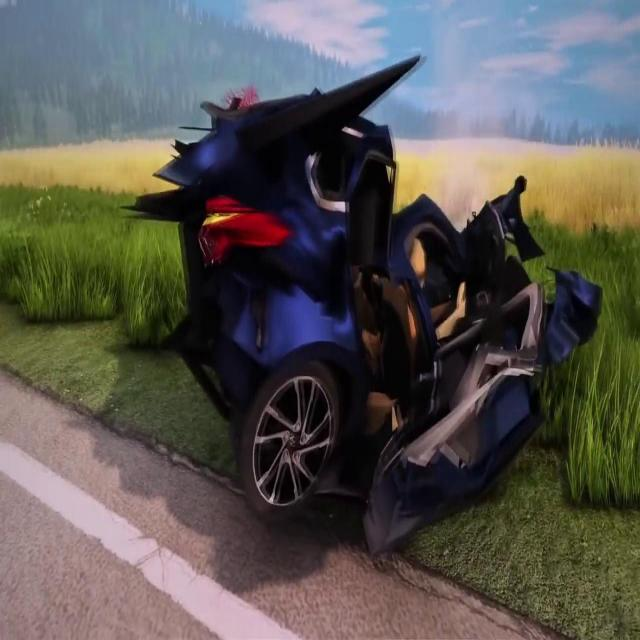accident: (138, 44, 606, 562)
